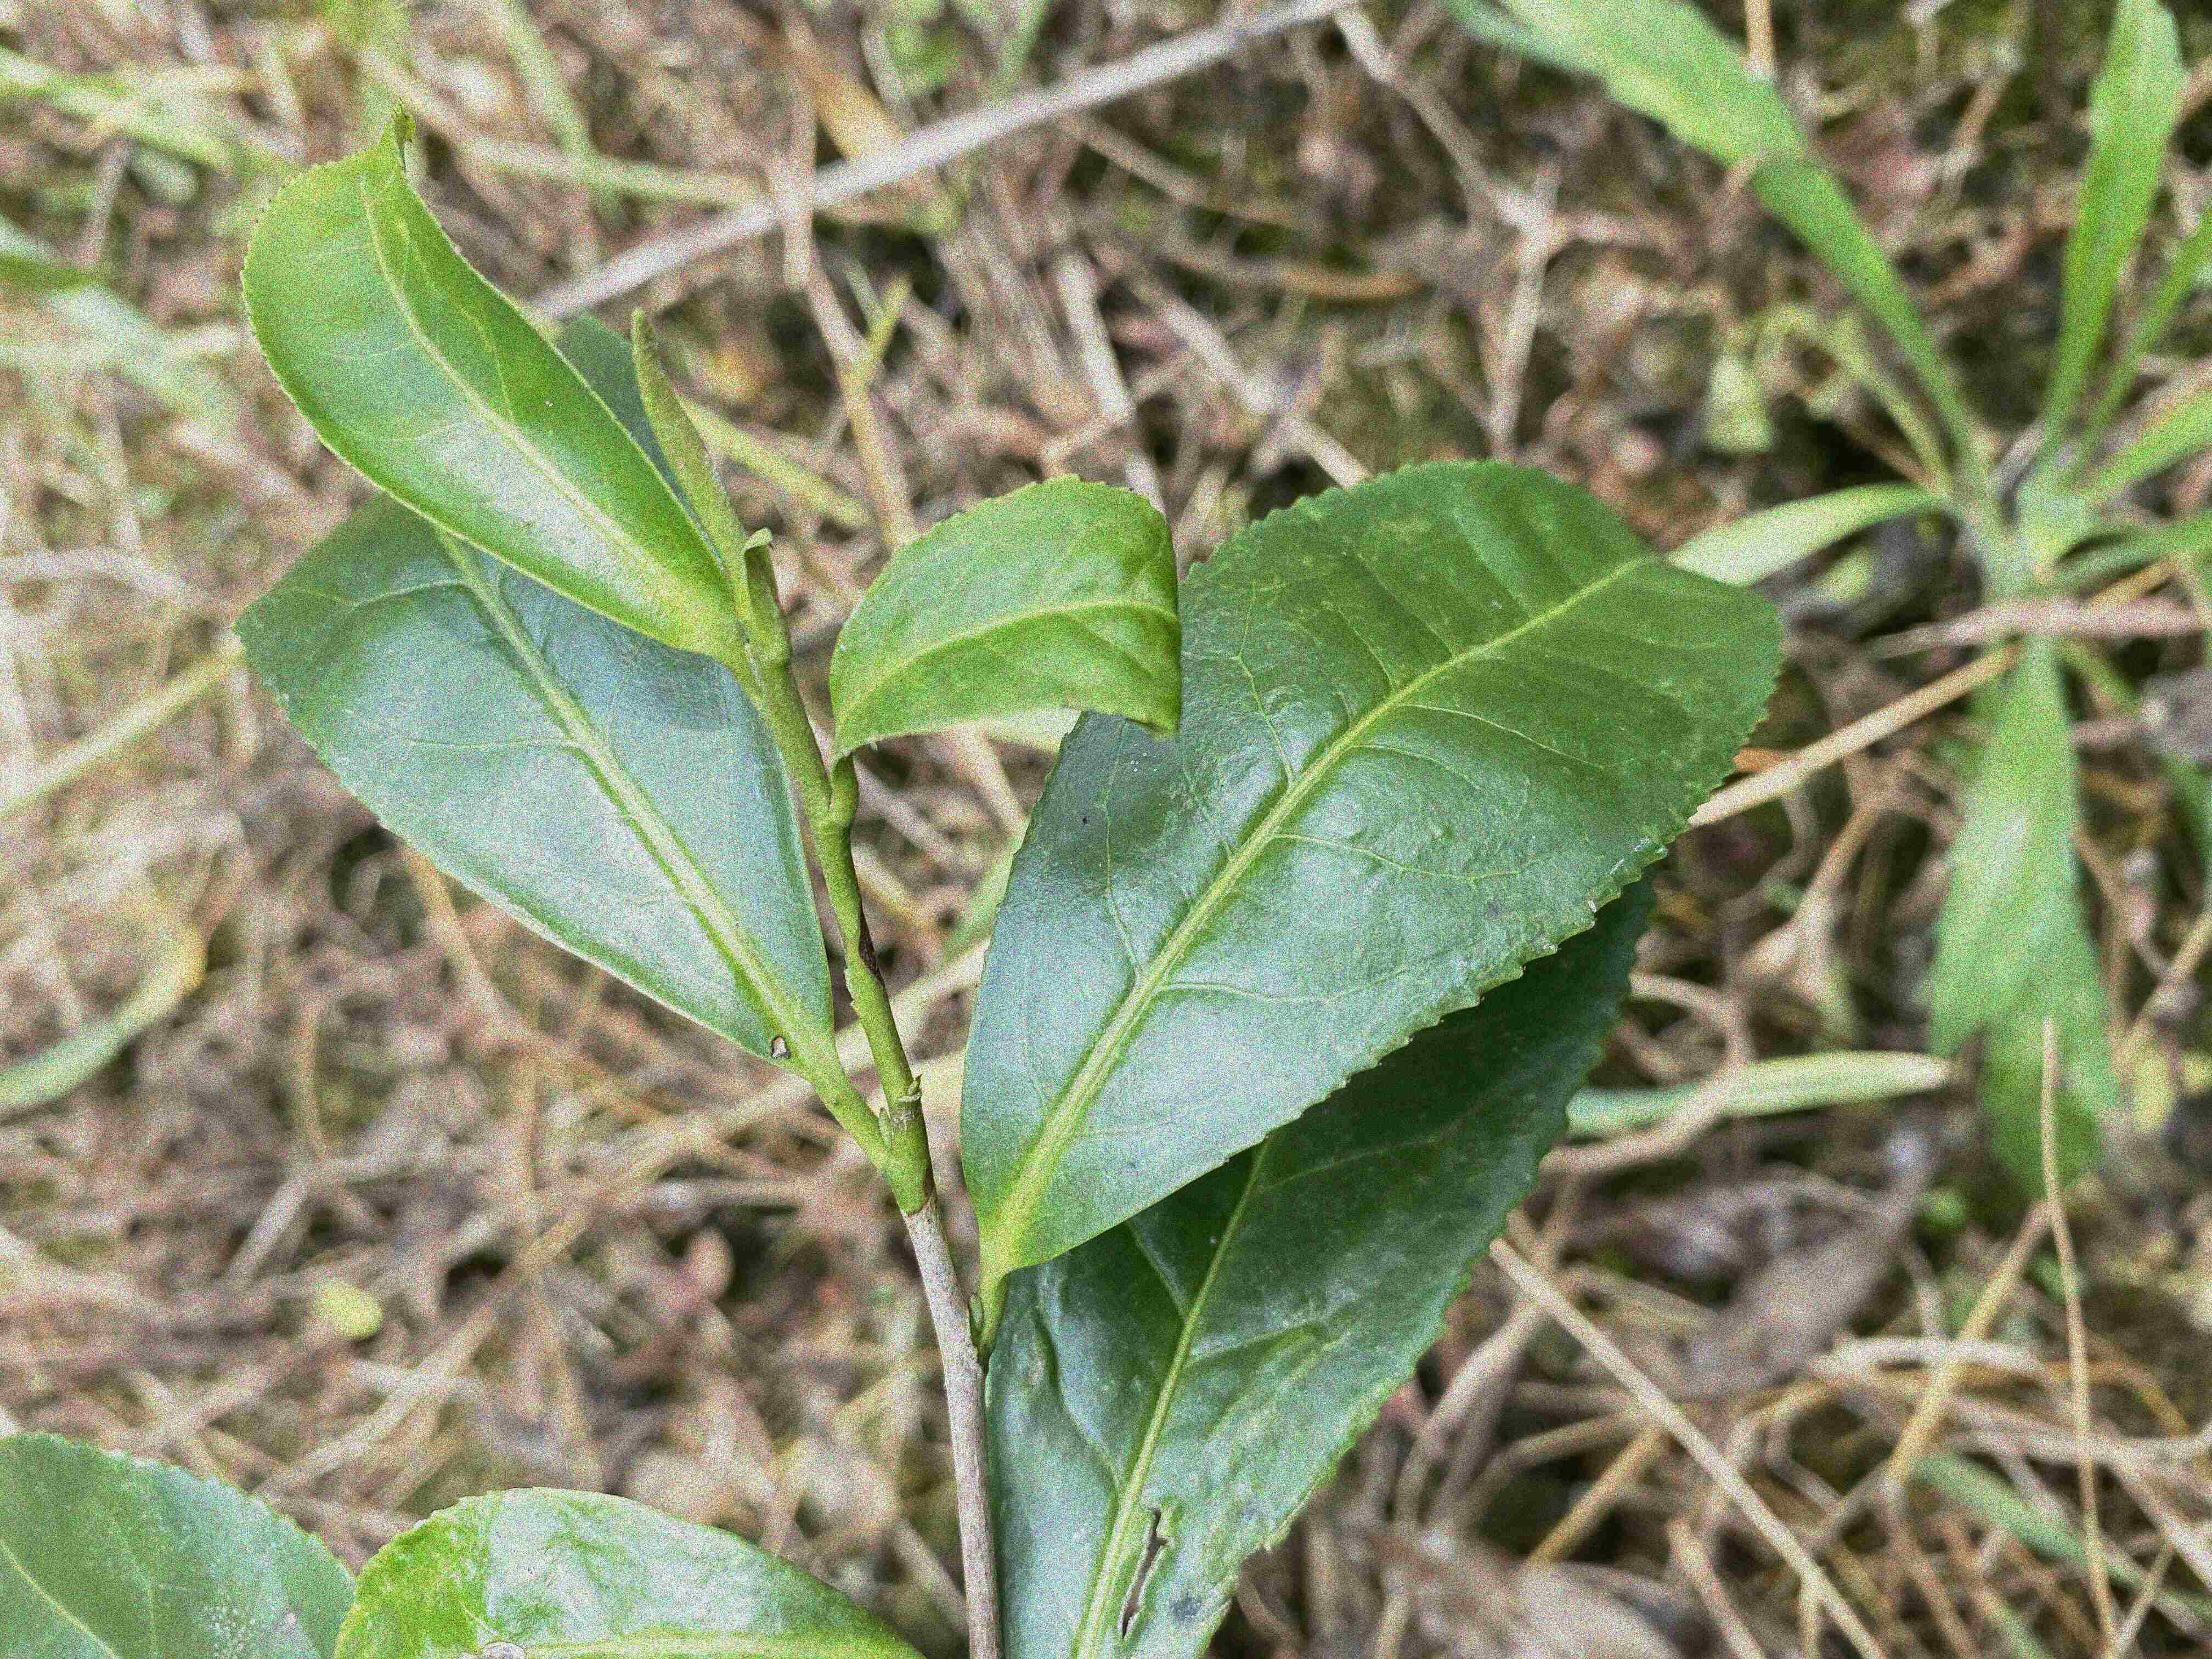chihuo_low: (982, 882, 1665, 1656)
healthy: (956, 458, 1784, 1281), (240, 110, 751, 666), (827, 472, 1188, 755)
tanju_low: (233, 483, 834, 1091)
